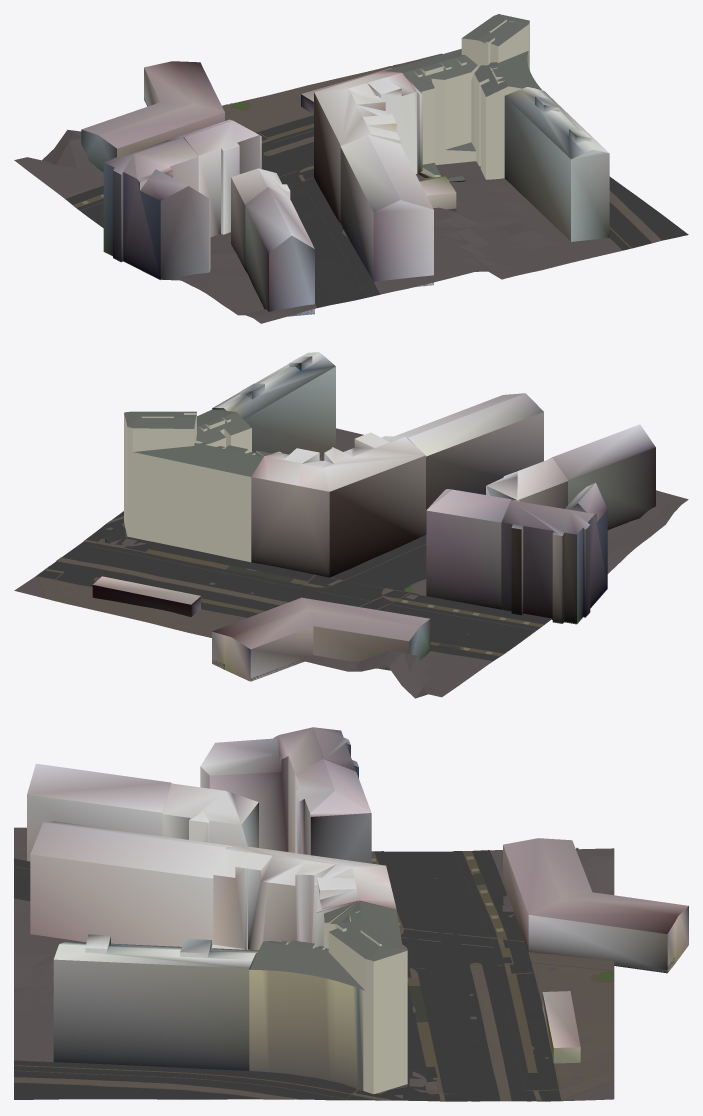
3 renders of one model, top to bottom at view 1: azimuth 30°, elevation 25°; view 2: azimuth 150°, elevation 25°; view 3: azimuth 270°, elevation 25°, orthographic. The views are drawn at different scales.
Visible parts, largest first — view 1: c_p03_m16; view 2: c_p03_m16; view 3: c_p03_m16.
Part boxes in pixels (box(x1,y1,x2,y2)): c_p03_m16: box(14, 14, 688, 323); c_p03_m16: box(14, 352, 688, 698); c_p03_m16: box(14, 727, 688, 1101).
Bounding box in the file's own units: 135 × 35.04 × 144.
